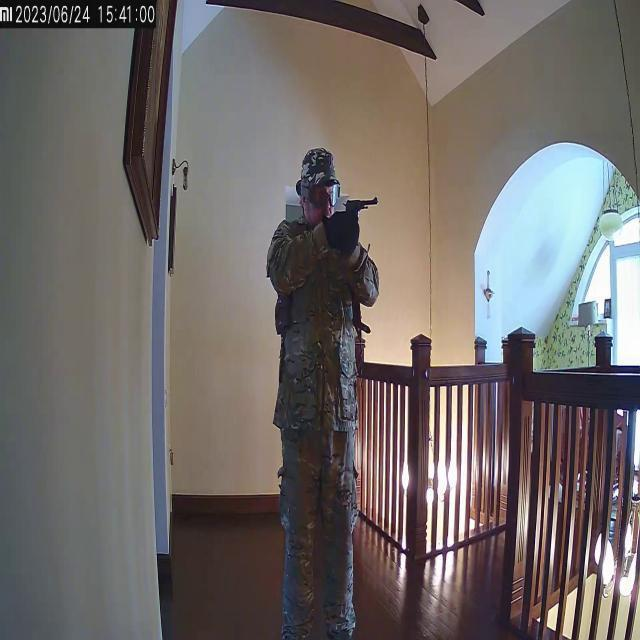pistol: (342, 194, 378, 231)
